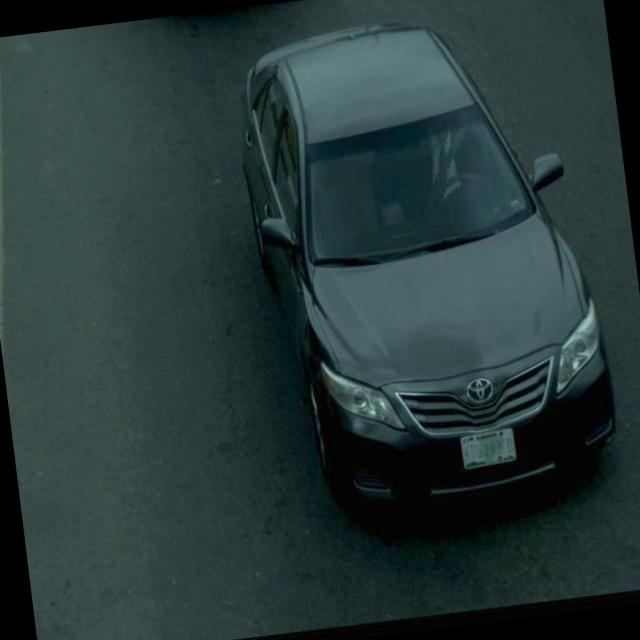person_with_seatbelt: (402, 116, 501, 231)
